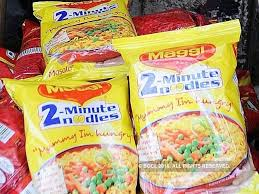maggie: (126, 23, 251, 194), (2, 79, 146, 194), (34, 3, 130, 77)
